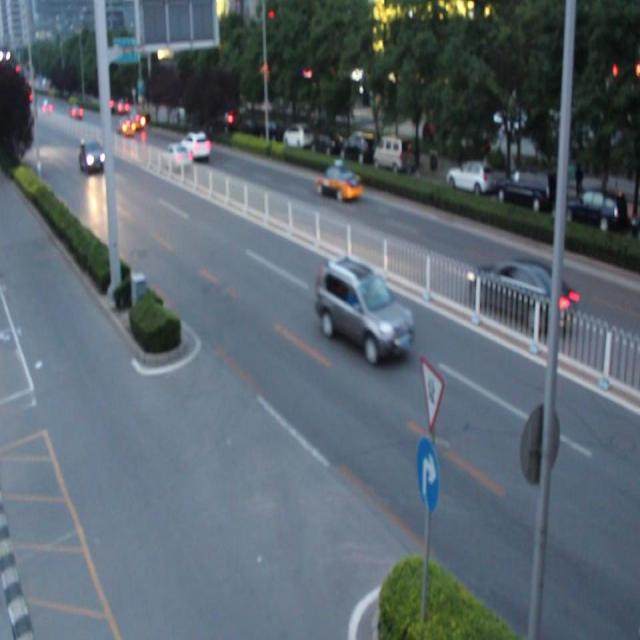car: (318, 258, 410, 357), (467, 255, 573, 338), (313, 164, 362, 202), (178, 130, 210, 160), (161, 146, 192, 170)
